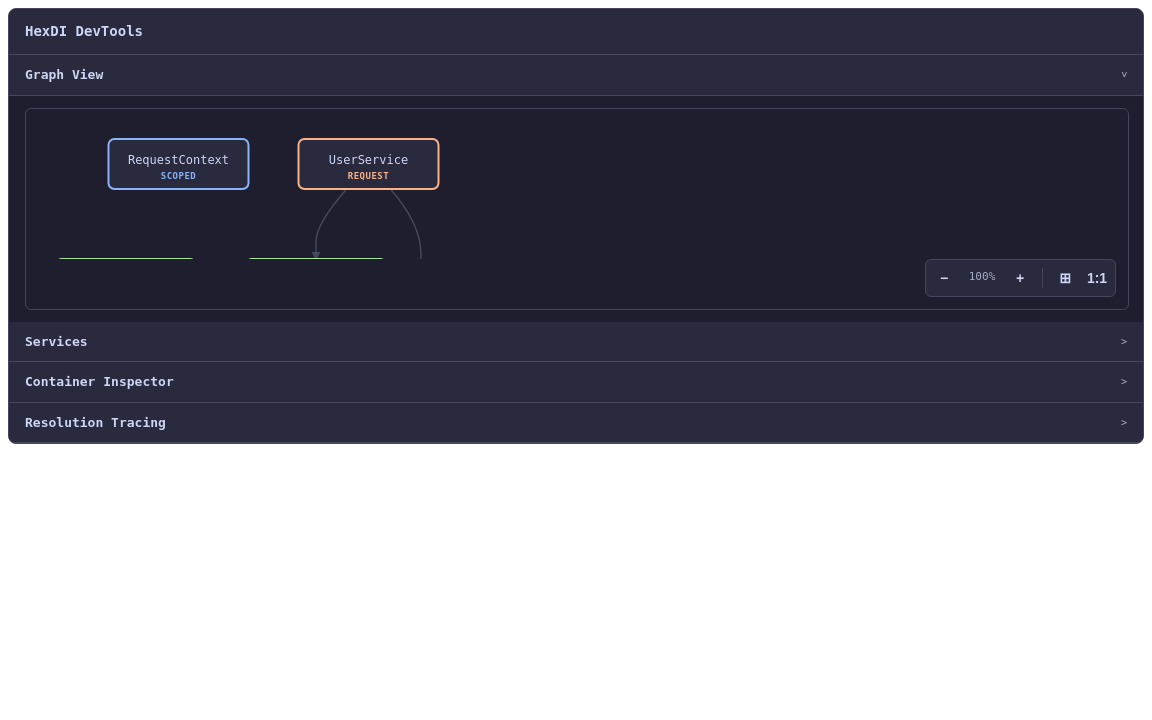
Test: Container State Inspection Integration › end-to-end: container creation -> inspection -> UI display
The width and height of the screenshot is (1152, 720).
Expand Container Inspector section
Click the button with test id "container-inspector-header".
click(99, 382)  # box [9,362,1143,402]
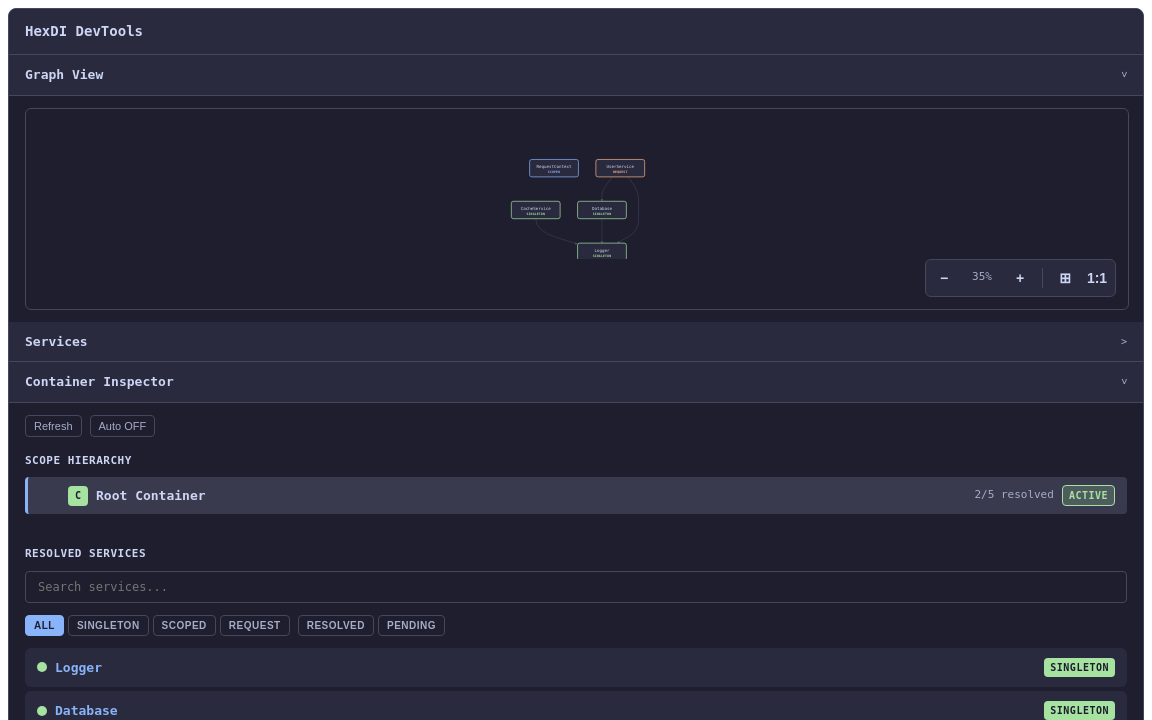
Expected: the element with test id "scope-node-container" is shown, [25,477,1127,514]
Expected: the element with test id "scope-node-container" shows "Root Container", [96,488,206,503]
Expected: the element with test id "service-item-Logger" is shown, [25,648,1127,687]
